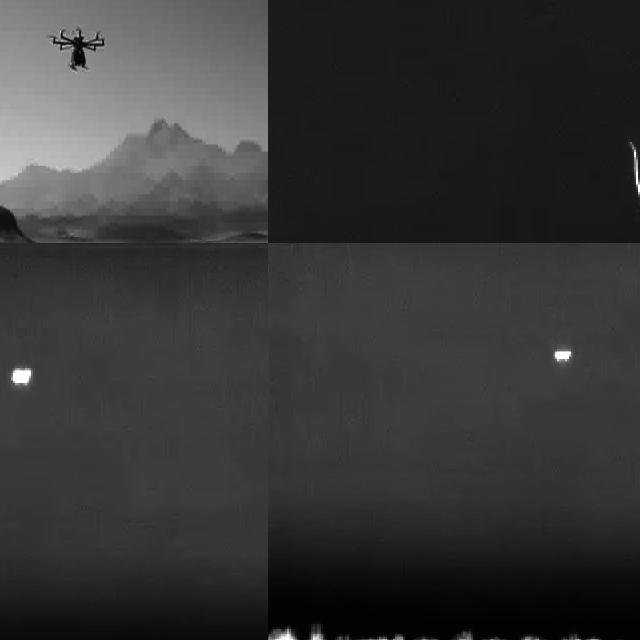1: (1, 364, 39, 397), (543, 344, 579, 374)
drone: (51, 23, 105, 75)
